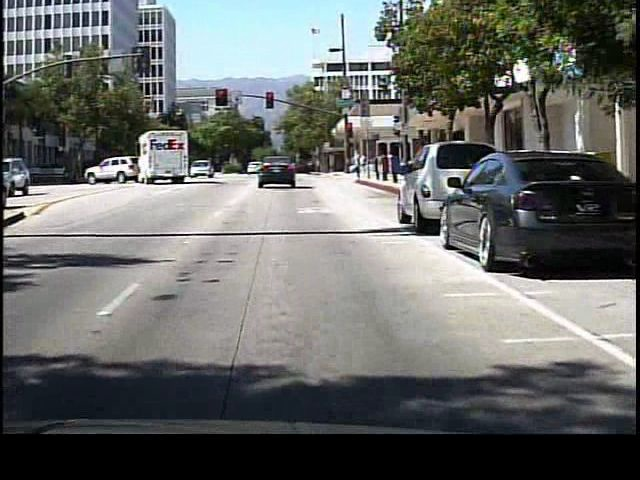person: (349, 147, 367, 183)
